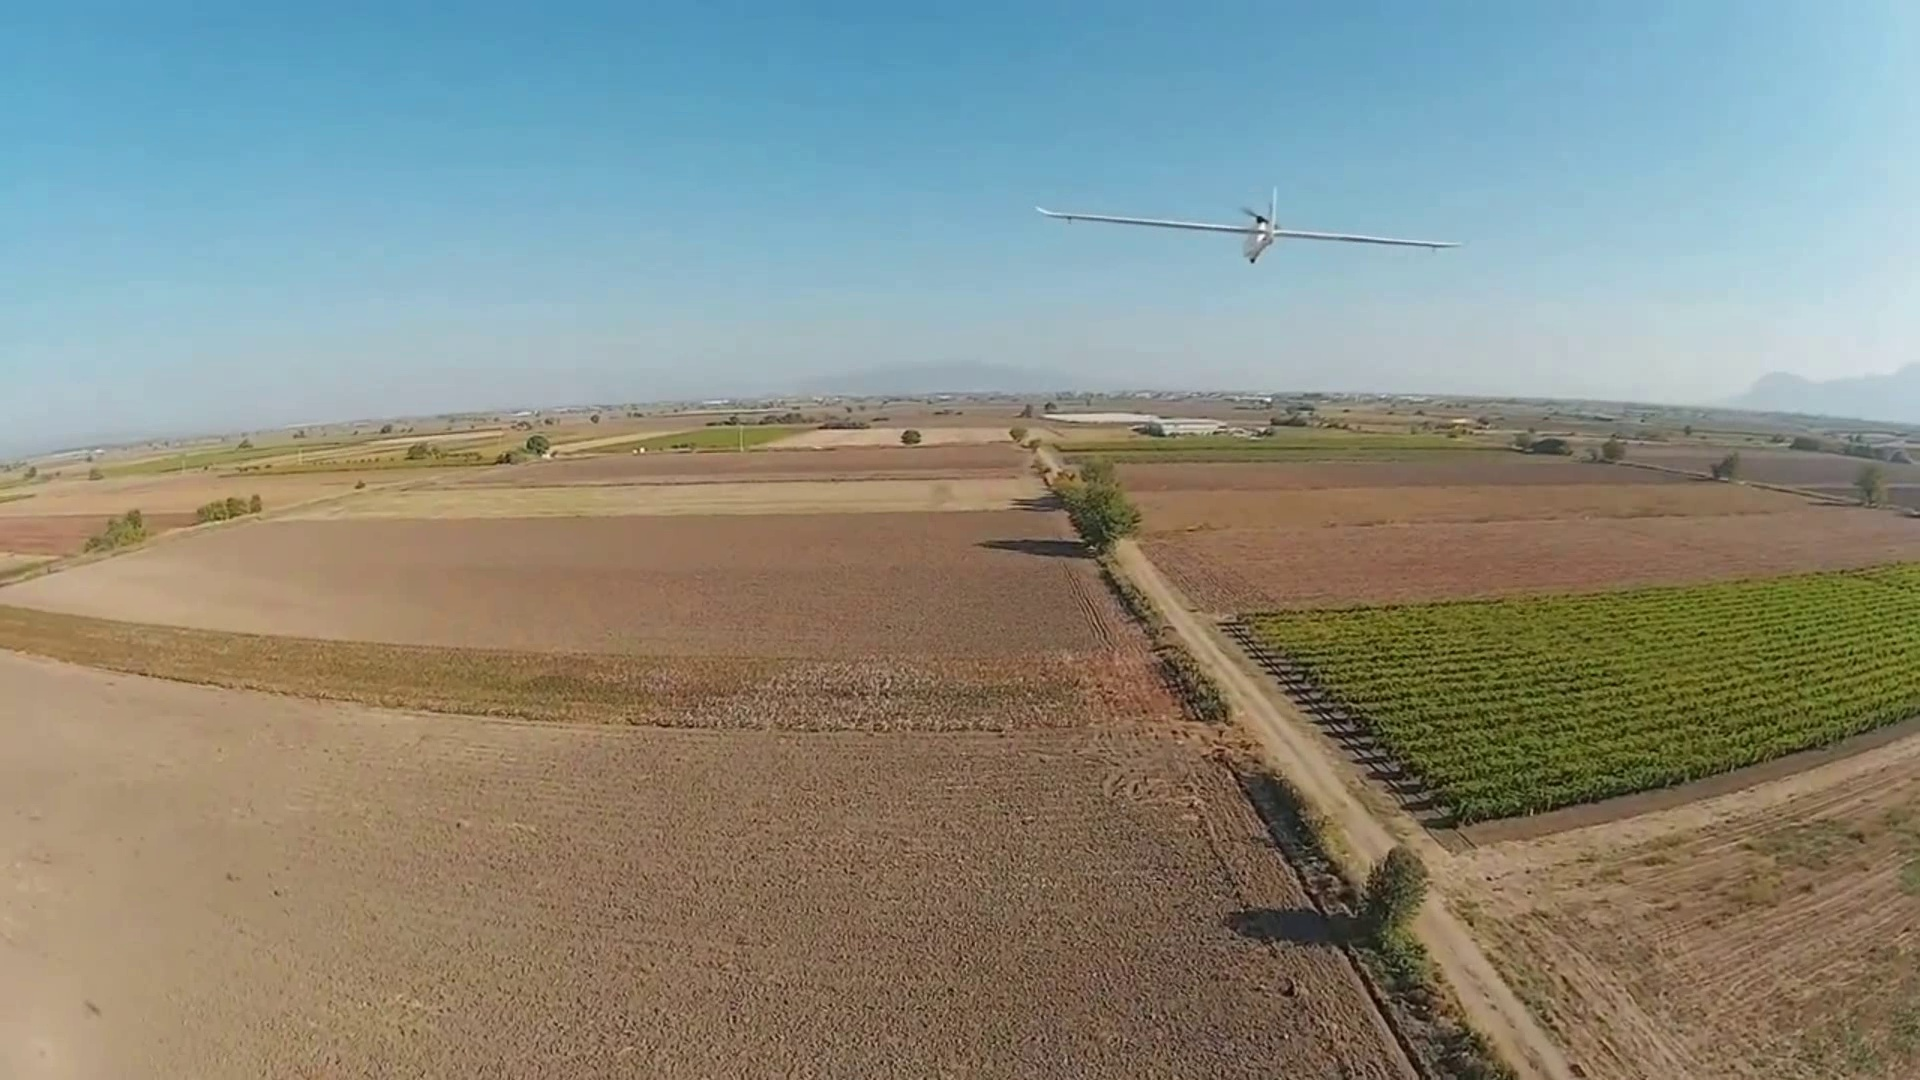airplane: (1034, 187, 1458, 264)
